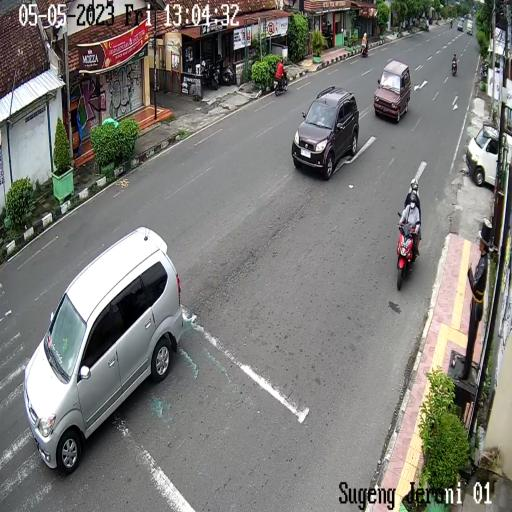mobil: (23, 225, 183, 481), (289, 84, 361, 183), (371, 60, 415, 126)
motor: (396, 210, 422, 292)
